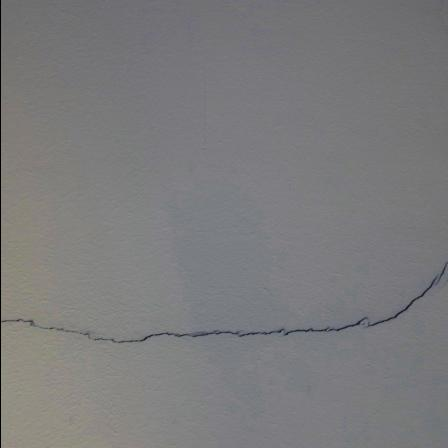crack: (0, 258, 448, 377)
